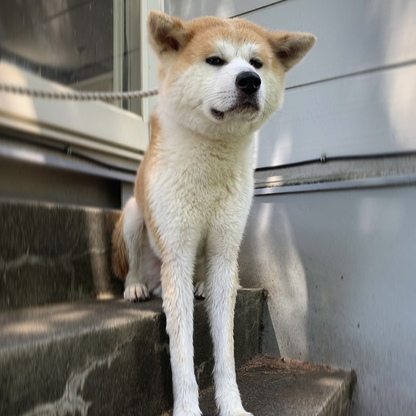akita: (101, 1, 322, 416)
